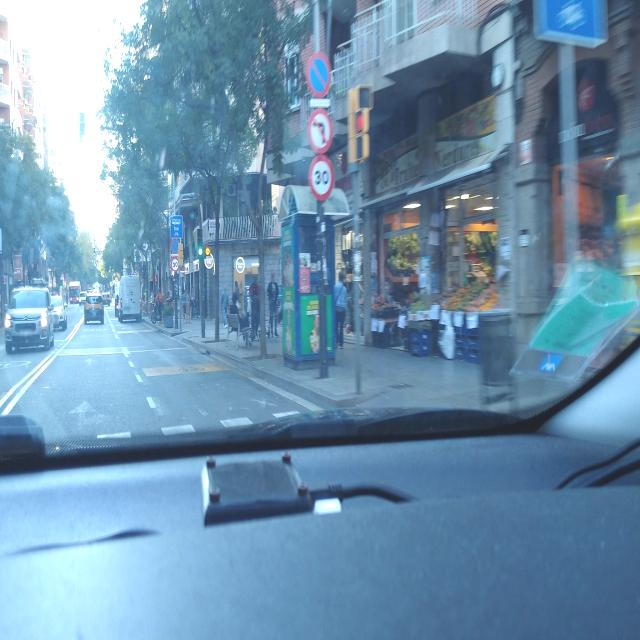car: (4, 285, 55, 353), (116, 275, 142, 323), (49, 294, 68, 332), (84, 293, 105, 326), (113, 288, 121, 318), (78, 291, 88, 306), (103, 290, 111, 306)
